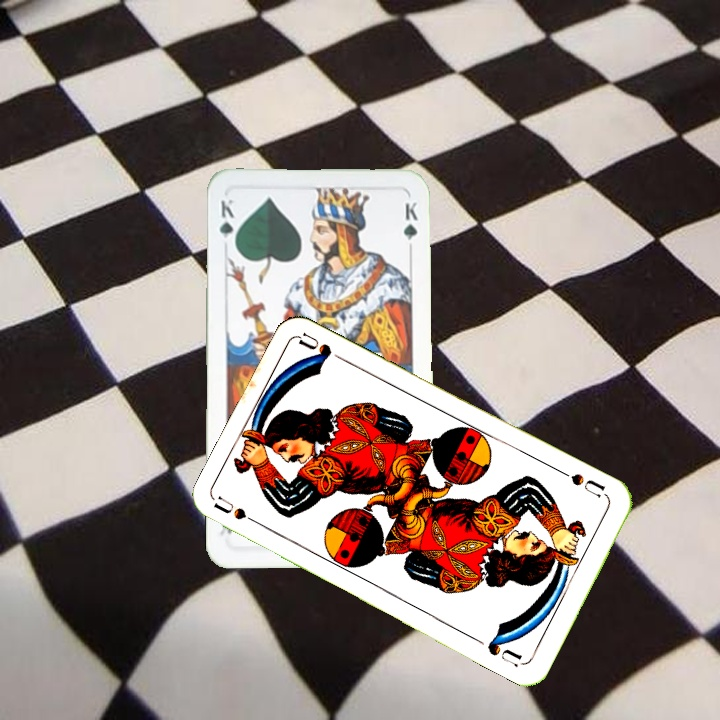GK: (216, 195, 238, 252)
SU: (211, 492, 268, 531), (556, 466, 611, 501)
